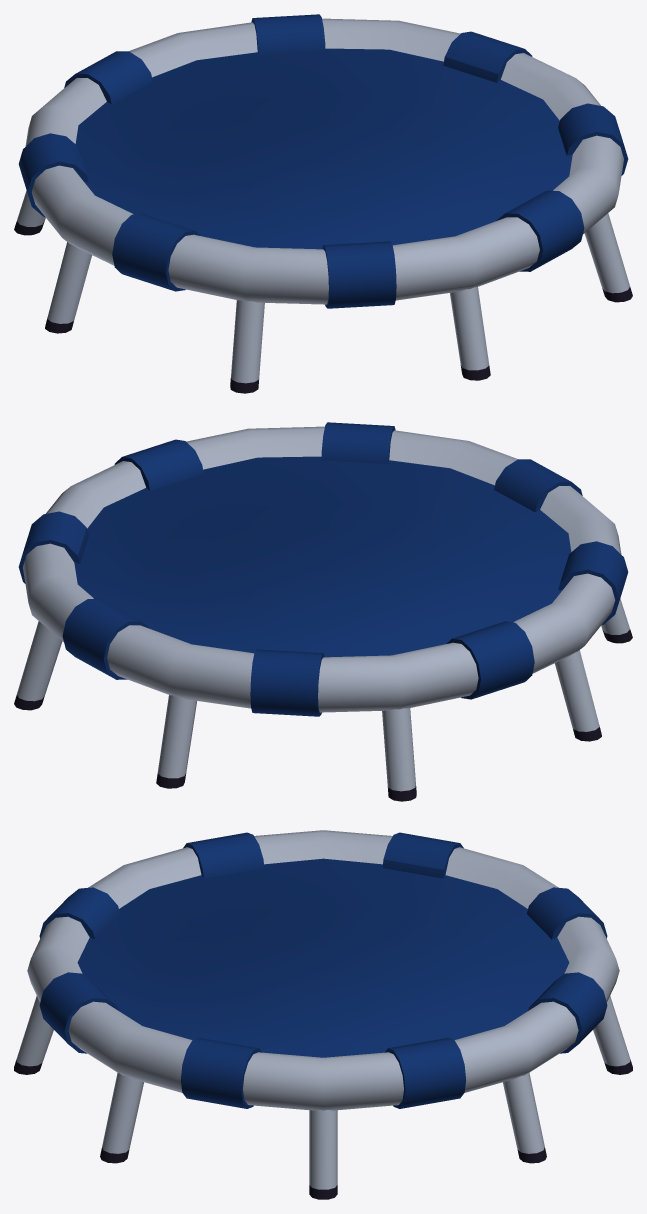
File: trampoline.fbx
The picture shows the model from 3 angles, top to bottom: view 1: azimuth 30°, elevation 25°; view 2: azimuth 150°, elevation 25°; view 3: azimuth 270°, elevation 25°; orthographic projection. The views are drawn at different scales.
Visible parts, largest first — view 1: Trampoline; view 2: Trampoline; view 3: Trampoline.
Part boxes in pixels (<box>): Trampoline: <box>14,14,632,393</box>; Trampoline: <box>14,422,632,801</box>; Trampoline: <box>14,830,632,1199</box>.
Bounding box in the file's own units: 230 × 51.76 × 230.
Materials: 1 (1 with a texture image).
